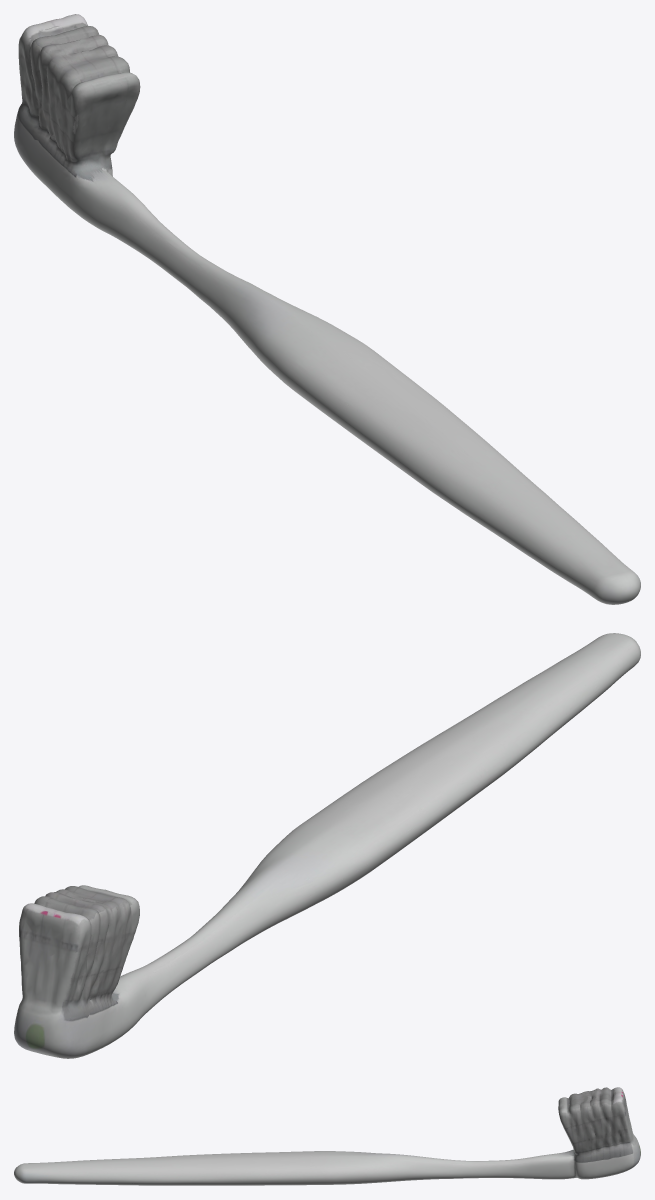
Rendered from toothbrush_003.glb.
3 views of the same model, one above another, from view 1: azimuth 30°, elevation 25°; view 2: azimuth 150°, elevation 25°; view 3: azimuth 270°, elevation 25° (orthographic). The views are drawn at different scales.
Visible parts, largest first — view 1: 5c6f1cb8-e186-454c-b10b-2685261ad5ff_texturing.obj; view 2: 5c6f1cb8-e186-454c-b10b-2685261ad5ff_texturing.obj; view 3: 5c6f1cb8-e186-454c-b10b-2685261ad5ff_texturing.obj.
Boxes of the visible parts, left/top/right/bottom form: 5c6f1cb8-e186-454c-b10b-2685261ad5ff_texturing.obj: left=14, top=14, right=640, bottom=604; 5c6f1cb8-e186-454c-b10b-2685261ad5ff_texturing.obj: left=14, top=633, right=640, bottom=1058; 5c6f1cb8-e186-454c-b10b-2685261ad5ff_texturing.obj: left=14, top=1087, right=640, bottom=1185.
Bounding box in the file's own units: 0.1089 × 0.2 × 1.29.
Materials: 1 (1 with a texture image).
